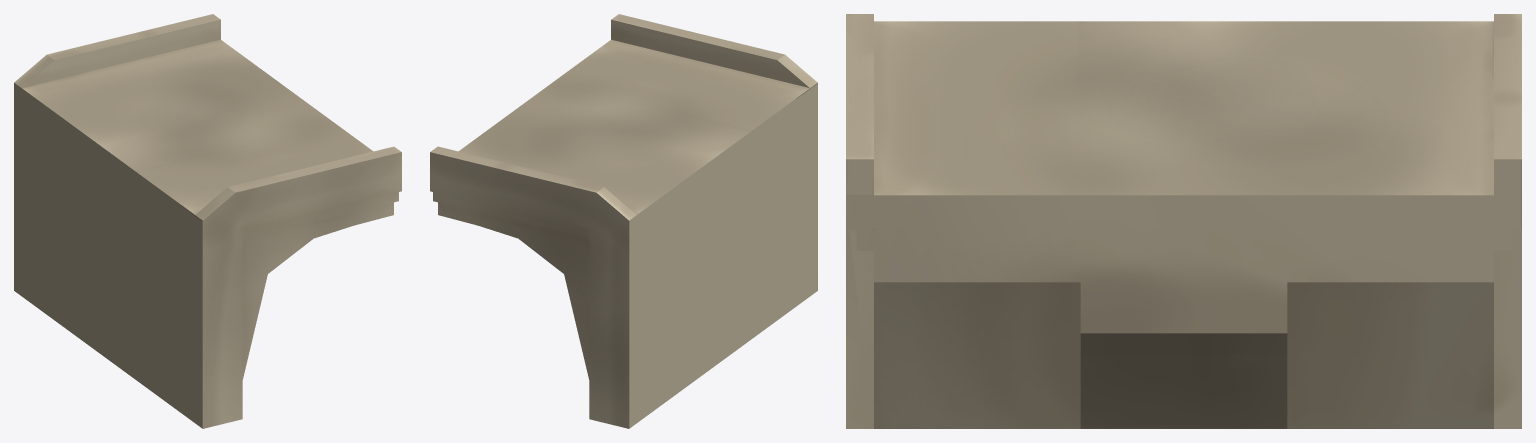
Rendered from bridge_end.fbx.
3 renders of one model, left to right at view 1: azimuth 30°, elevation 25°; view 2: azimuth 150°, elevation 25°; view 3: azimuth 270°, elevation 25°, orthographic. The views are drawn at different scales.
Visible parts, largest first — view 1: bridge_end; view 2: bridge_end; view 3: bridge_end.
Boxes of the visible parts, x1=… form: bridge_end: x1=14, y1=14, x2=401, y2=428; bridge_end: x1=430, y1=14, x2=817, y2=428; bridge_end: x1=846, y1=14, x2=1521, y2=428.
Size of the model in its own units: 200 by 219 by 328.
